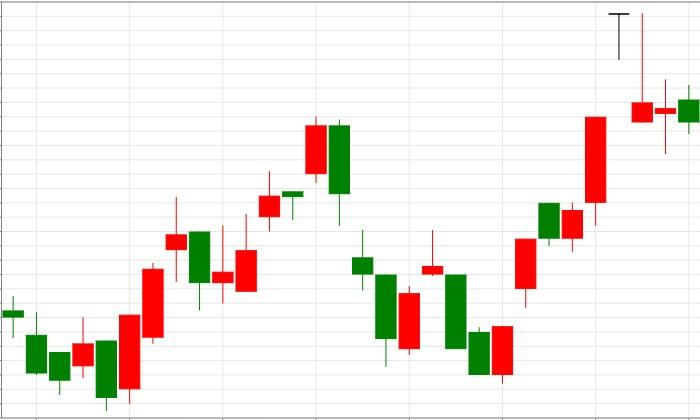bearish_engulfing_fall: (212, 116, 349, 303)
shooting_star_fall: (492, 12, 653, 383)
